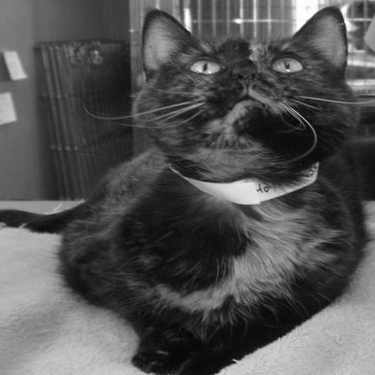cat: (41, 8, 364, 360)
